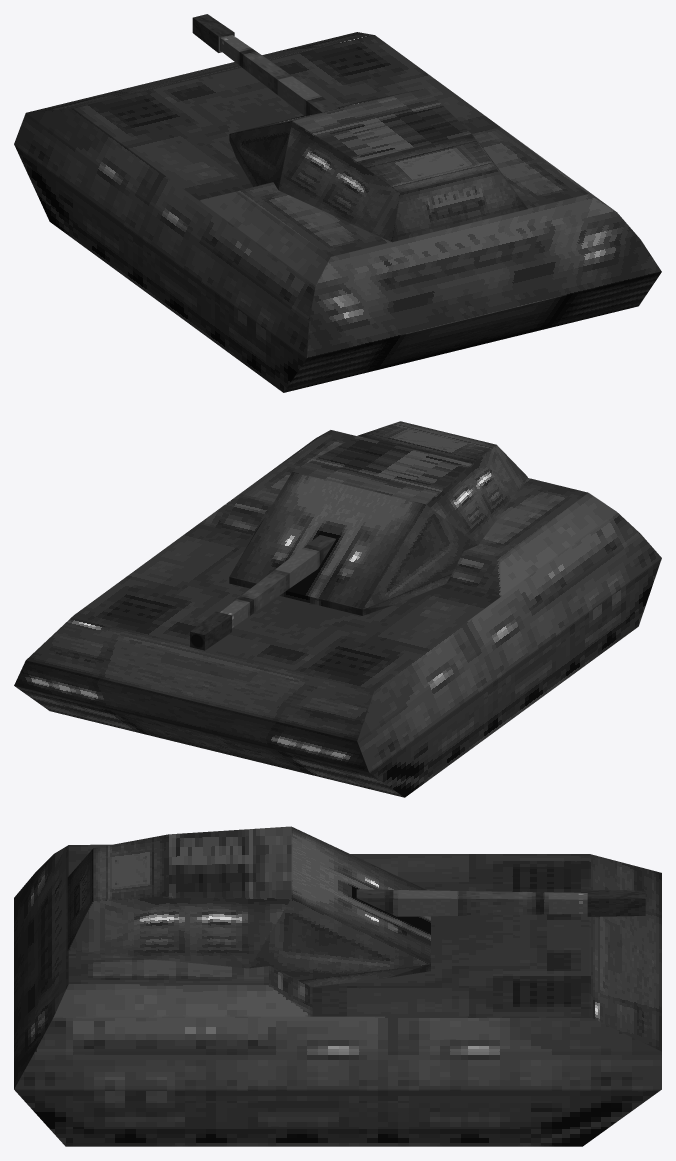
File: Devastator.glb
3 views of the same model, one above another, from view 1: azimuth 30°, elevation 25°; view 2: azimuth 150°, elevation 25°; view 3: azimuth 270°, elevation 25° (orthographic). The views are drawn at different scales.
Visible parts, largest first — view 1: Body, Turret, Barrel; view 2: Body, Turret, Barrel; view 3: Body, Turret, Barrel.
Part boxes in pixels (bbox=[...]): Body: bbox=[14, 32, 661, 392]; Turret: bbox=[229, 88, 527, 242]; Barrel: bbox=[192, 14, 338, 115]; Body: bbox=[14, 430, 661, 797]; Turret: bbox=[229, 421, 527, 615]; Barrel: bbox=[190, 535, 335, 650]; Body: bbox=[14, 844, 661, 1146]; Turret: bbox=[67, 826, 430, 986]; Barrel: bbox=[356, 889, 645, 916].
Size of the model in its own units: 1.28 by 0.584 by 1.82.
3 materials, 3 textured.
